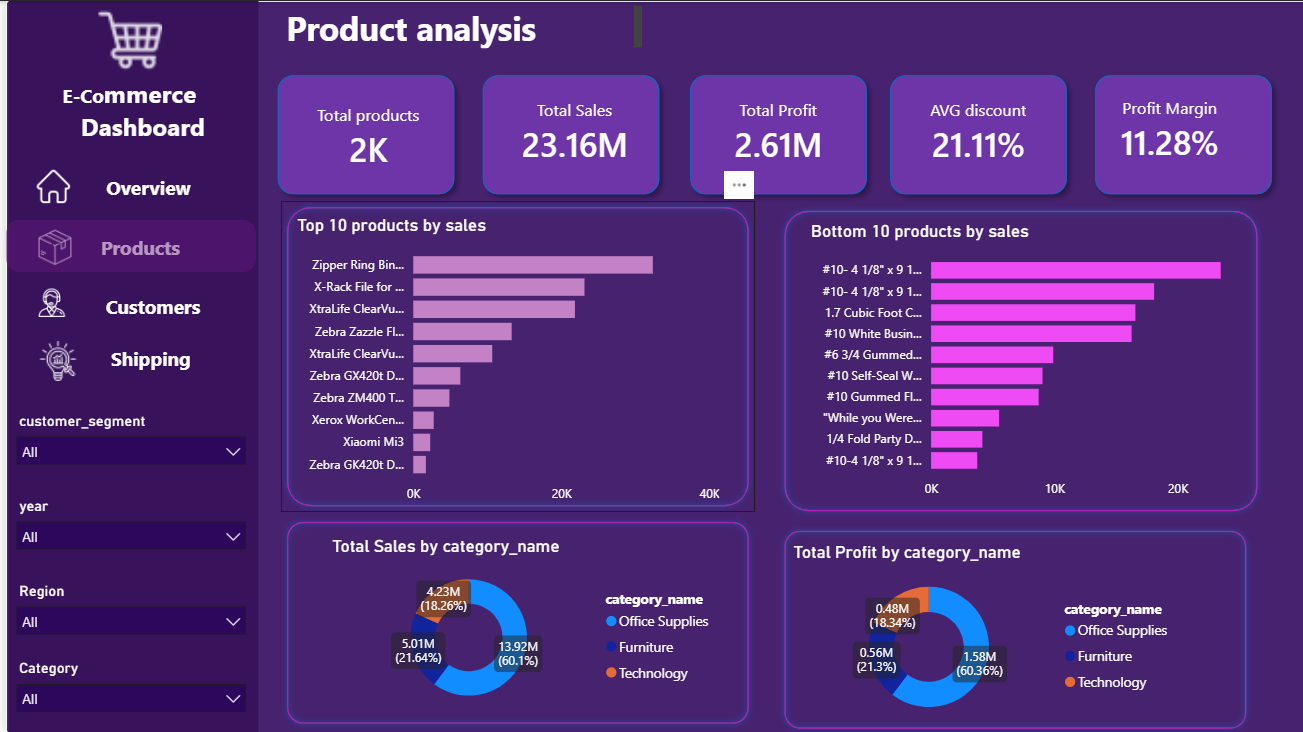

The dashboard page shown, as its layout file describes it:
{"tool":"powerbi","page":{"name":"Page 2","canvas":[1280,720],"ordinal":1},"visuals":[{"type":"shape","box":[2.5,0,245.4,720.2],"z":0},{"type":"slicer","fields":{"Values":["e_commerce.category_name"]},"box":[0,641.7,245.4,62.6],"z":1000},{"type":"slicer","fields":{"Values":["e_commerce.customer_region"]},"box":[0,565.6,245.4,62.6],"z":2000},{"type":"slicer","fields":{"Values":["calender.year"]},"box":[0,482.8,245.4,62.6],"z":3000},{"type":"slicer","fields":{"Values":["e_commerce.customer_segment"]},"box":[0,398.8,245.4,62.6],"z":4000},{"type":"image","box":[20.9,282.2,47.9,28.2],"z":5000},{"type":"image","box":[28.6,333.7,45.4,39.3],"z":5000,"group":"g2"},{"type":"textbox","box":[73.6,282.2,141.1,40.5],"z":6000},{"type":"shape","box":[257.7,63.8,191.4,135],"z":7000},{"type":"image","box":[22,224.6,51.5,34.4],"z":7000,"group":"g3"},{"type":"shape","box":[458.9,63.8,191.4,135],"z":8000},{"type":"image","box":[24.5,165.6,44.2,33.1],"z":8000,"group":"g1"},{"type":"shape","box":[662.6,63.8,191.4,135],"z":9000},{"type":"textbox","box":[90,333.7,105.5,39.3],"z":9000,"group":"g2"},{"type":"shape","box":[858.9,63.8,191.4,135],"z":10000},{"type":"shape","box":[1060.1,63.8,191.4,135],"z":11000},{"type":"textbox","box":[57.6,224.6,148.5,36.8],"z":11000,"group":"g3"},{"type":"cardVisual","fields":{"Data":["measure Table.Total products"]},"box":[246.6,63.8,218.4,139.9],"z":12000},{"type":"textbox","box":[68.7,165.6,142.3,40.5],"z":12000,"group":"g1"},{"type":"cardVisual","fields":{"Data":["measure Table.Total Sales"]},"box":[449.1,58.9,218.4,139.9],"z":13000},{"type":"cardVisual","fields":{"Data":["measure Table.Total Profit"]},"box":[649.1,58.9,218.4,139.9],"z":14000},{"type":"cardVisual","fields":{"Data":["measure Table.Profit Margin"]},"box":[1033.1,56.4,218.4,139.9],"z":15000},{"type":"cardVisual","fields":{"Data":["measure Table.AVG discount"]},"box":[845.4,58.9,218.4,139.9],"z":16000},{"type":"clusteredBarChart","title":"Top 10 products by sales","fields":{"Category":["e_commerce.product_name"],"Y":["measure Table.Total Sales"]},"box":[281,209.8,424.5,292],"z":17000},{"type":"clusteredBarChart","title":"Bottom 10 products by sales","fields":{"Category":["e_commerce.product_name"],"Y":["measure Table.Total Sales"]},"box":[785.3,216,440.5,281],"z":18000},{"type":"shape","box":[758.3,200,476.1,306.8],"z":19000},{"type":"shape","box":[269.9,196.3,465,305.5],"z":20000},{"type":"donutChart","fields":{"Category":["e_commerce.category_name"],"Y":["measure Table.Total Sales"]},"box":[315.3,520.2,390.2,184.1],"z":21000},{"type":"donutChart","fields":{"Category":["e_commerce.category_name"],"Y":["measure Table.Total Profit"]},"box":[768.1,526.4,387.7,190.2],"z":22000},{"type":"shape","box":[269.9,505.5,465,209.8],"z":23000},{"type":"shape","box":[758.3,514.1,465,206.1],"z":24000},{"type":"textbox","box":[25.8,69.9,197.5,93.3],"z":25000},{"type":"textbox","box":[269.9,0,359.5,51.5],"z":26000},{"type":"image","box":[72.4,7.4,99.4,62.6],"z":27000},{"type":"actionButton","box":[6.1,276.1,234.4,46.6],"z":28000},{"type":"group","id":"g1","title":"Group 1","box":[0,157.9,245.4,51.5],"z":29000},{"type":"group","id":"g2","title":"Group 2","box":[8.5,331.6,234.4,42.9],"z":30000},{"type":"group","id":"g3","title":"Group 4","box":[0.9,211.8,240.5,54],"z":31000},{"type":"shape","box":[0,214.7,245.4,51.5],"z":32000},{"type":"actionButton","box":[0,157.9,245.4,51.5],"z":33002,"group":"g1"},{"type":"actionButton","box":[8.5,331.6,234.4,42.9],"z":33003,"group":"g2"},{"type":"actionButton","box":[0.9,211.8,240.5,54],"z":33005,"group":"g3"}]}

Visuals, with their boxes on the page's 1280x720 design canvas (x1, y1, x2, y2). These are canvas units, not pixel positions in the 1303x732 screenshot, which may show the page scaled, cropped or inside an application window:
shape: (left=2, top=0, right=248, bottom=720)
slicer - e_commerce.category_name: (left=0, top=642, right=245, bottom=704)
slicer - e_commerce.customer_region: (left=0, top=566, right=245, bottom=628)
slicer - calender.year: (left=0, top=483, right=245, bottom=545)
slicer - e_commerce.customer_segment: (left=0, top=399, right=245, bottom=461)
image: (left=21, top=282, right=69, bottom=310)
image: (left=29, top=334, right=74, bottom=373)
textbox: (left=74, top=282, right=215, bottom=323)
shape: (left=258, top=64, right=449, bottom=199)
image: (left=22, top=225, right=74, bottom=259)
shape: (left=459, top=64, right=650, bottom=199)
image: (left=24, top=166, right=69, bottom=199)
shape: (left=663, top=64, right=854, bottom=199)
textbox: (left=90, top=334, right=196, bottom=373)
shape: (left=859, top=64, right=1050, bottom=199)
shape: (left=1060, top=64, right=1252, bottom=199)
textbox: (left=58, top=225, right=206, bottom=261)
cardVisual - measure Table.Total products: (left=247, top=64, right=465, bottom=204)
textbox: (left=69, top=166, right=211, bottom=206)
cardVisual - measure Table.Total Sales: (left=449, top=59, right=668, bottom=199)
cardVisual - measure Table.Total Profit: (left=649, top=59, right=868, bottom=199)
cardVisual - measure Table.Profit Margin: (left=1033, top=56, right=1252, bottom=196)
cardVisual - measure Table.AVG discount: (left=845, top=59, right=1064, bottom=199)
"Top 10 products by sales" clusteredBarChart: (left=281, top=210, right=706, bottom=502)
"Bottom 10 products by sales" clusteredBarChart: (left=785, top=216, right=1226, bottom=497)
shape: (left=758, top=200, right=1234, bottom=507)
shape: (left=270, top=196, right=735, bottom=502)
donutChart - e_commerce.category_name x measure Table.Total Sales: (left=315, top=520, right=706, bottom=704)
donutChart - e_commerce.category_name x measure Table.Total Profit: (left=768, top=526, right=1156, bottom=717)
shape: (left=270, top=506, right=735, bottom=715)
shape: (left=758, top=514, right=1223, bottom=720)
textbox: (left=26, top=70, right=223, bottom=163)
textbox: (left=270, top=0, right=629, bottom=52)
image: (left=72, top=7, right=172, bottom=70)
actionButton: (left=6, top=276, right=240, bottom=323)
"Group 1" group: (left=0, top=158, right=245, bottom=209)
"Group 2" group: (left=8, top=332, right=243, bottom=374)
"Group 4" group: (left=1, top=212, right=241, bottom=266)
shape: (left=0, top=215, right=245, bottom=266)
actionButton: (left=0, top=158, right=245, bottom=209)
actionButton: (left=8, top=332, right=243, bottom=374)
actionButton: (left=1, top=212, right=241, bottom=266)
